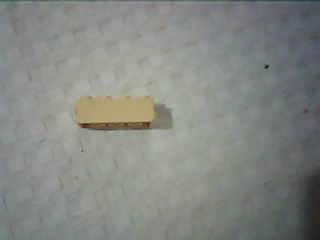lego: (73, 92, 157, 132)
